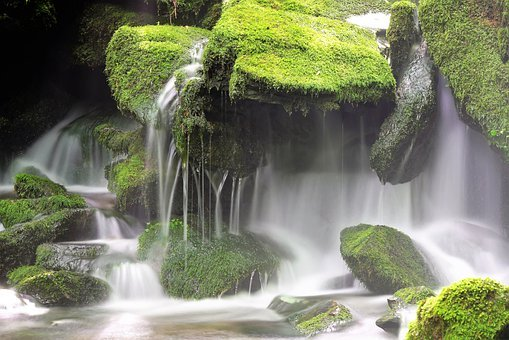mountain: (8, 6, 503, 335)
waterfall: (59, 73, 505, 300)
